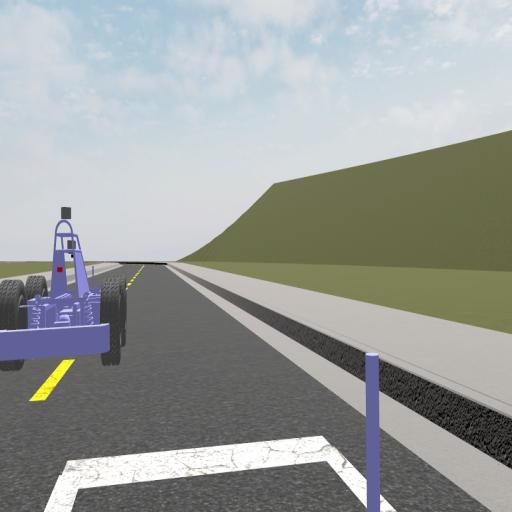ERP-42: (1, 206, 127, 374)
